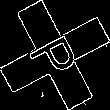P_NE: (24, 27, 86, 83)
